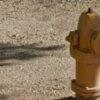Hydrant: (58, 4, 100, 100)
